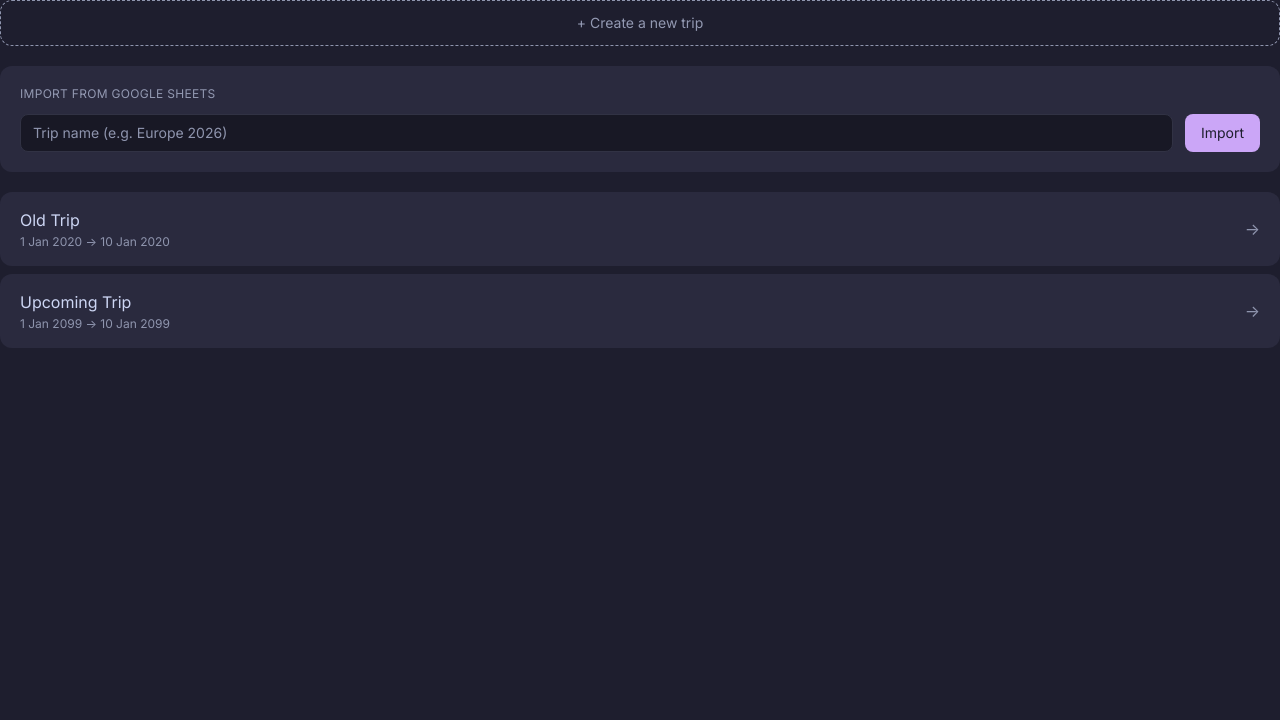
Test: TripList — create a new trip › opens the create-trip modal from the button
This screenshot has width=1280, height=720.
Expected: the text "Old Trip" is shown, [20,210,80,230]
Step 1. Click the button "+ Create a new trip" → (640, 23), box [0,0,1279,46]
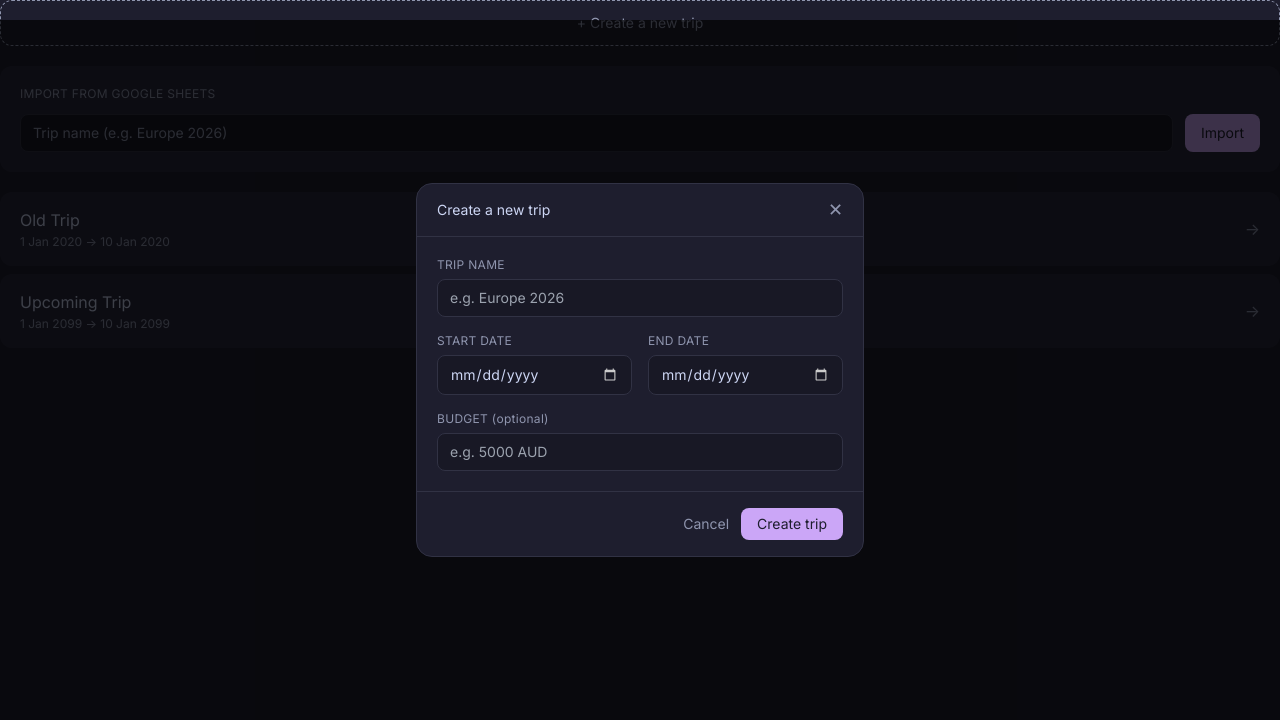
Result: the text "Create a new trip" is shown at [437,200,550,220]
Result: the field labelled "Trip name" is shown at [437,279,843,317]
